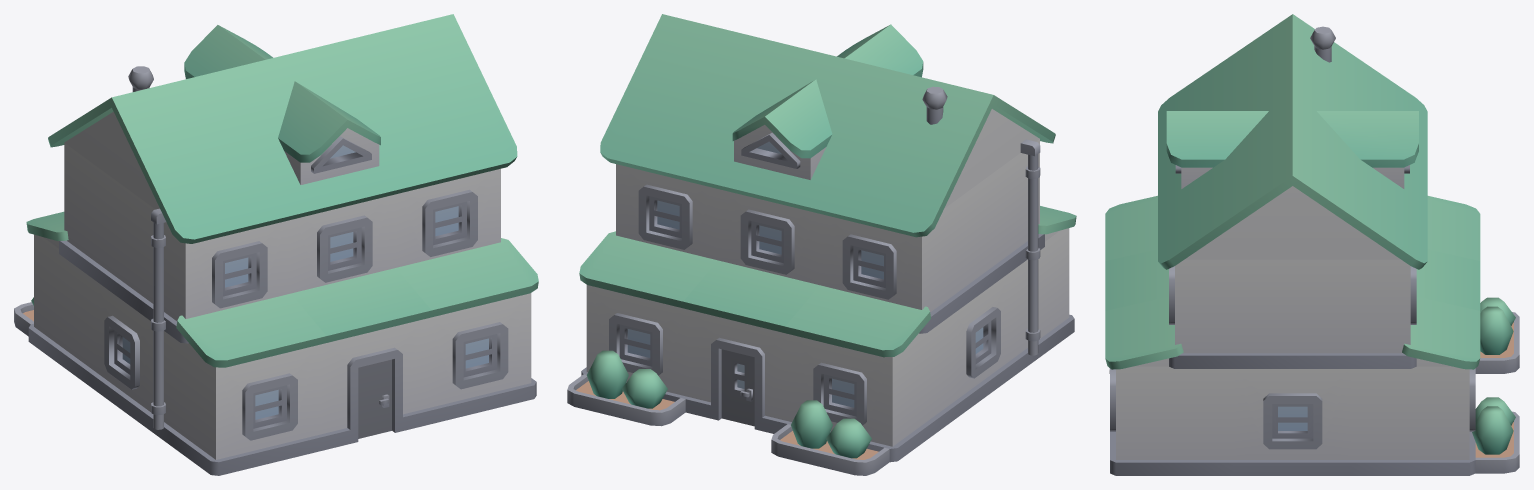
File: building-type-t.glb
3 views of the same model, side by side, from view 1: azimuth 30°, elevation 25°; view 2: azimuth 150°, elevation 25°; view 3: azimuth 270°, elevation 25° (orthographic). The views are drawn at different scales.
Parts seen in each view (by area): view 1: building-type-t; view 2: building-type-t; view 3: building-type-t.
Boxes of the visible parts, x1=… form: building-type-t: x1=14, y1=14, x2=538, y2=475; building-type-t: x1=567, y1=14, x2=1076, y2=475; building-type-t: x1=1105, y1=14, x2=1519, y2=475.
Size of the model in its own units: 1.31 by 1.16 by 1.41.
